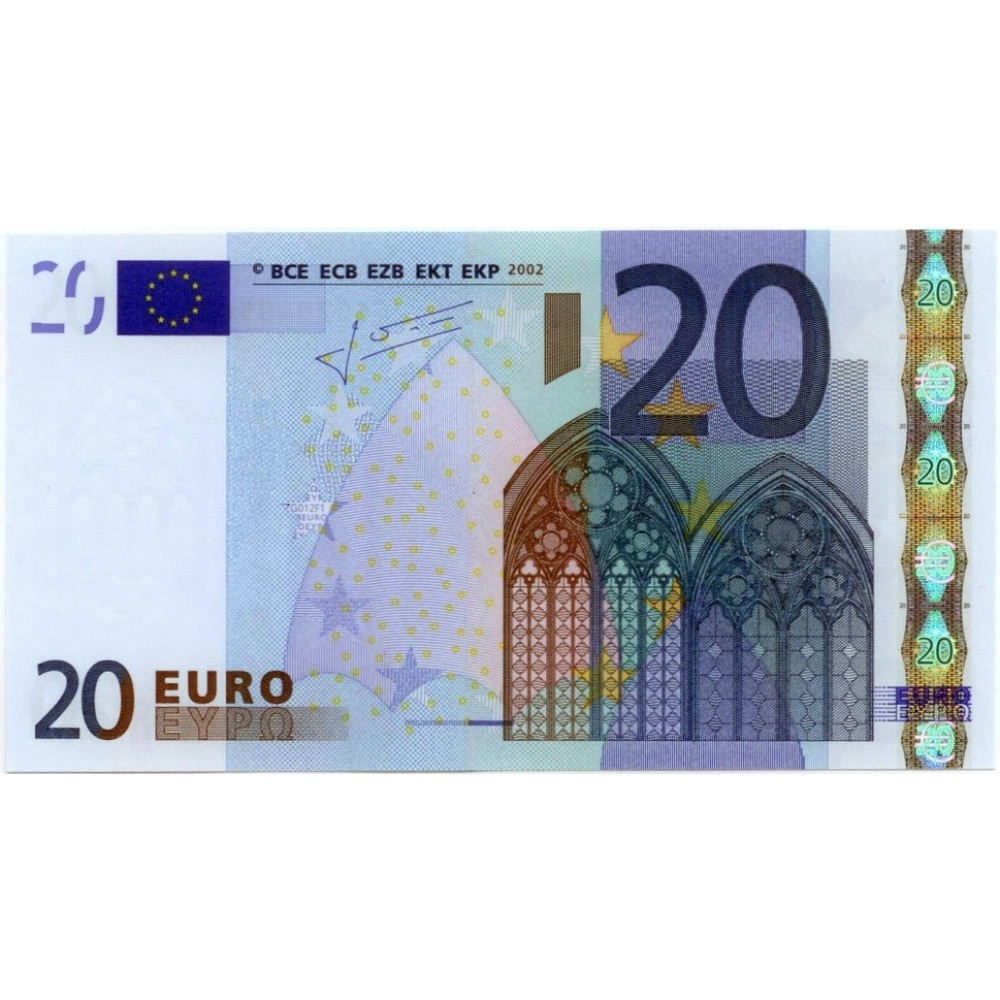billete: (1, 228, 1000, 777)
